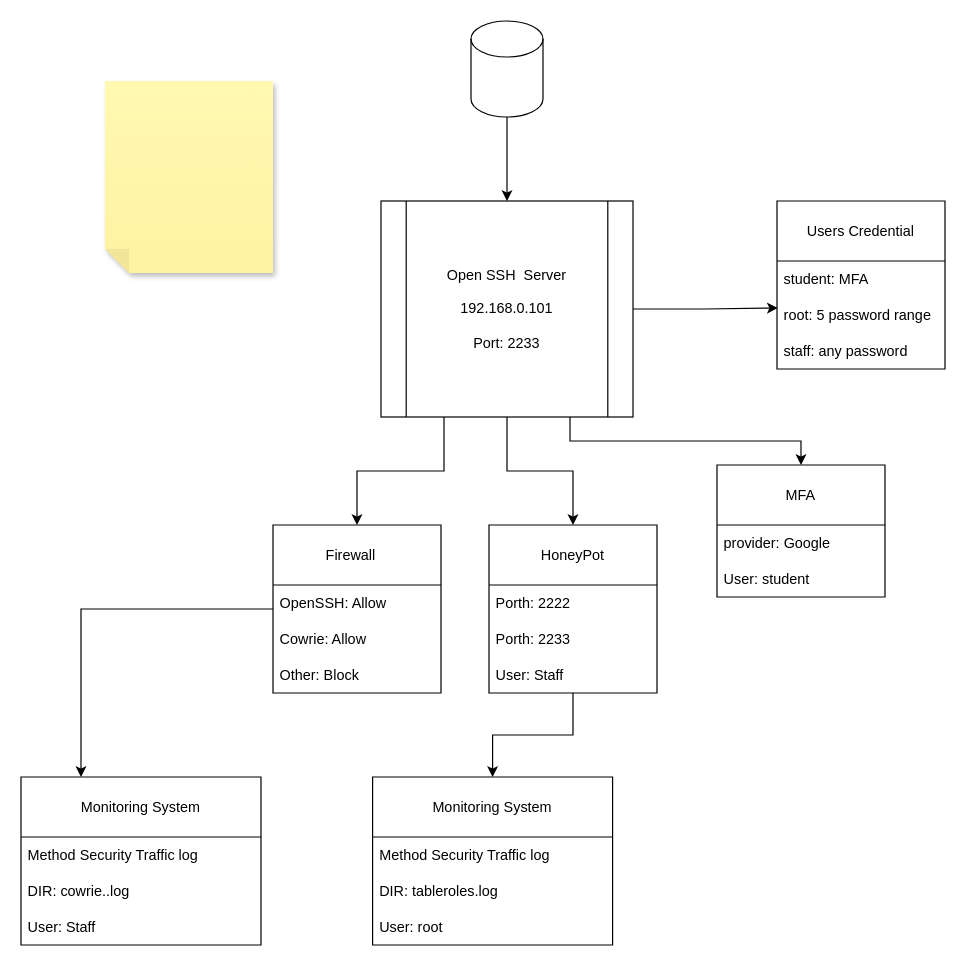
Image size: 966x966. Some labels were removed from this diagram. Each missing label, with the centre of its shape:
"OpenSSH" goes at (x=506, y=68).
"OpenSSH Server Security Measure" goes at (x=190, y=178).
